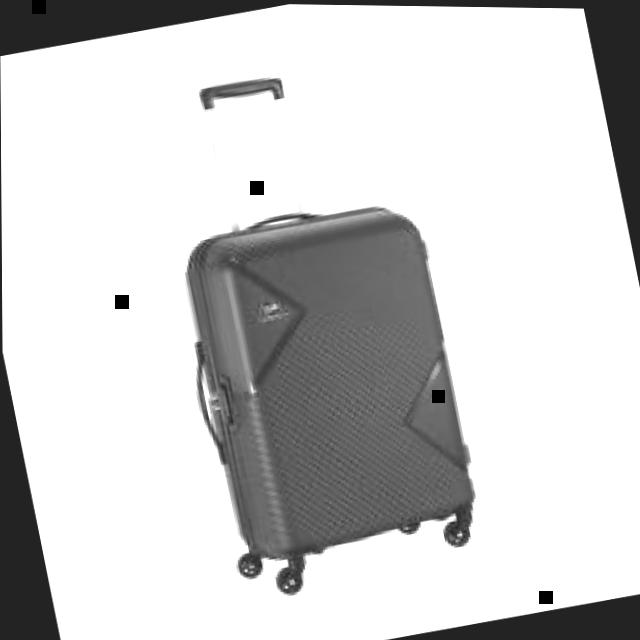luggage: (155, 174, 504, 610)
